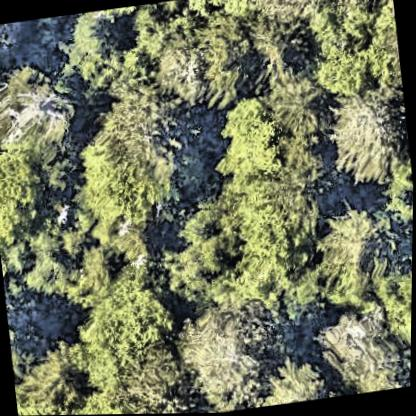tree-top: (304, 0, 404, 105), (79, 258, 178, 359), (176, 305, 287, 395), (52, 5, 150, 102), (309, 208, 398, 314), (324, 84, 413, 188), (152, 206, 245, 304), (209, 86, 286, 194), (102, 87, 190, 180), (0, 61, 80, 158), (315, 302, 398, 389), (77, 162, 180, 229), (241, 206, 317, 293), (120, 347, 201, 415), (197, 22, 261, 101), (15, 229, 85, 298), (125, 0, 205, 58), (262, 348, 338, 406), (0, 158, 49, 246), (23, 353, 90, 416), (265, 81, 330, 141), (74, 358, 132, 415), (155, 48, 211, 106), (384, 270, 413, 357), (253, 0, 332, 26), (0, 22, 20, 55)
